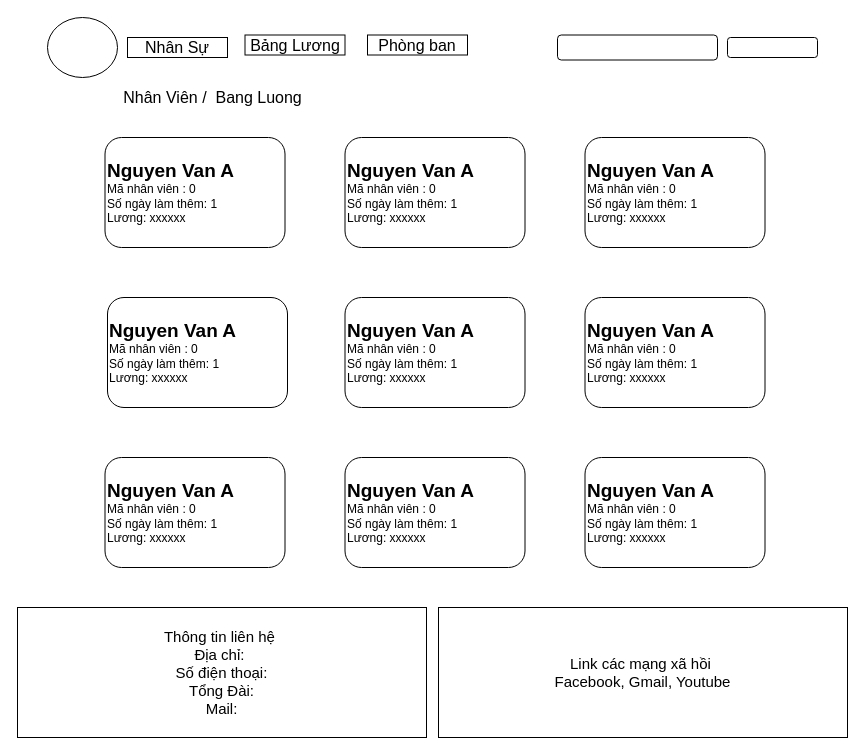
This 865x755 diagram has some shape labels left out. Here are the shapes that lost their labels. From the top down, the centre of each, then its label:
At pixel 82 47: "LOGO".
At pixel 637 47: "Input search".
At pixel 772 47: "button search".
